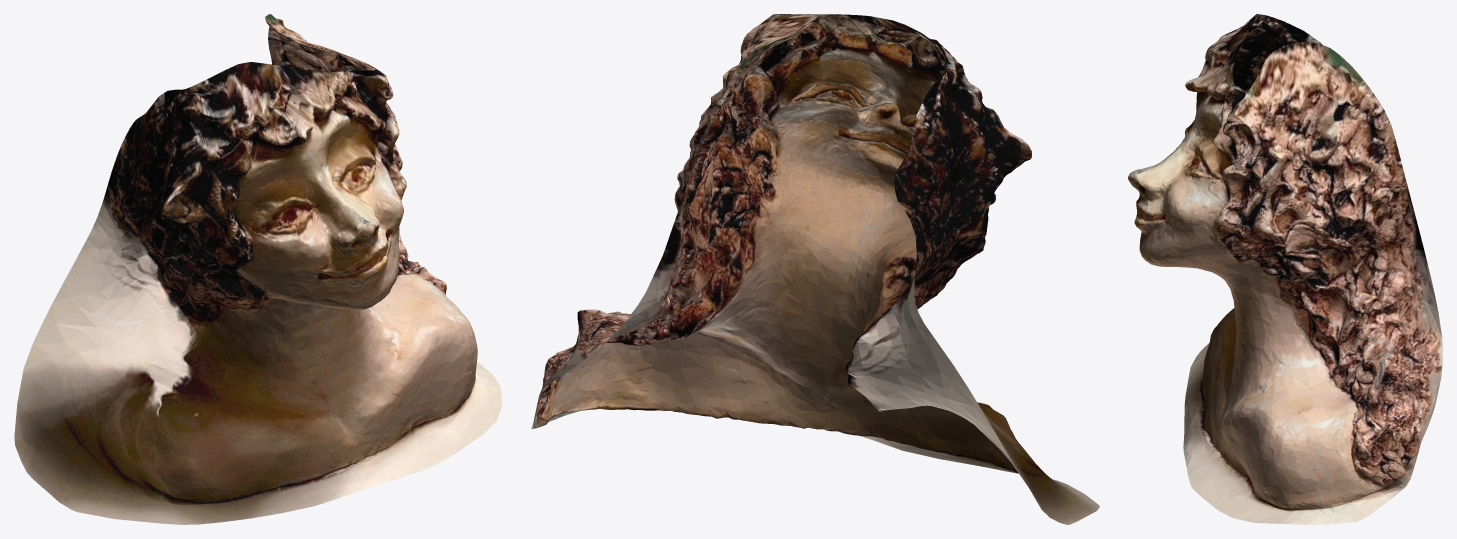
The model's file is blender.obj.
3 views of the same model, side by side, from view 1: azimuth 30°, elevation 25°; view 2: azimuth 150°, elevation 25°; view 3: azimuth 270°, elevation 25° (orthographic). The views are drawn at different scales.
Visible parts, largest first — view 1: default; view 2: default; view 3: default.
Boxes of the visible parts, x1,y1,x2,y2 form: default: (14, 14, 502, 524); default: (531, 14, 1099, 524); default: (1128, 14, 1442, 524).
Bounding box in the file's own units: 14.89 × 13.18 × 9.31.
2 materials, 1 textured.
